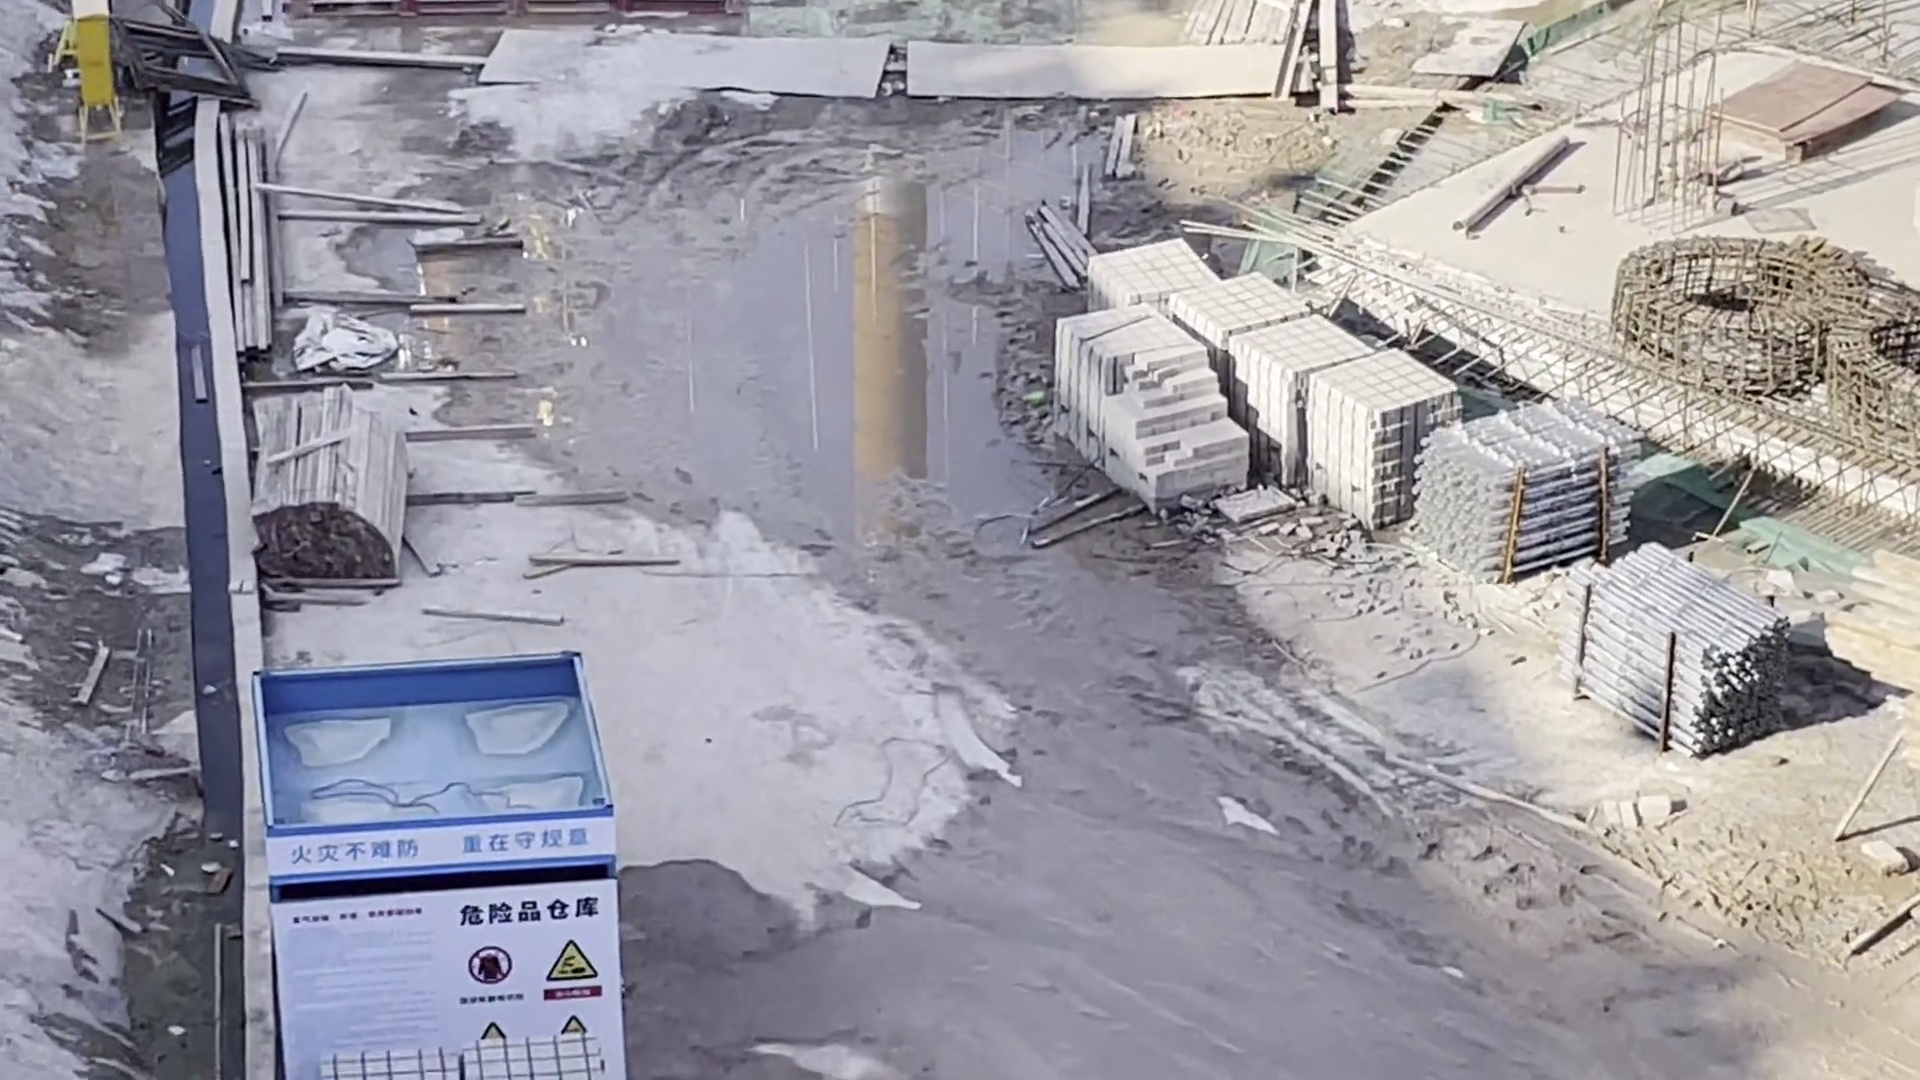board: (1713, 61, 1869, 158)
brick: (1063, 261, 1422, 508)
ebox: (66, 1, 115, 120)
scaffold: (1563, 556, 1789, 746), (1425, 407, 1633, 564)
slogan: (270, 823, 608, 865), (456, 938, 603, 1031)
wood: (251, 400, 401, 579)
